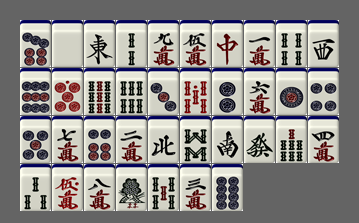0m: (52, 164, 83, 211)
0p: (52, 68, 83, 115)
0s: (180, 68, 211, 115)
1m: (244, 20, 275, 67)
1p: (276, 68, 307, 115)
1s: (116, 164, 147, 211)
1z: (84, 20, 115, 67)
2m: (116, 116, 147, 163)
2p: (212, 68, 243, 115)
2s: (116, 20, 147, 67)
2z: (212, 116, 243, 163)
3m: (180, 164, 211, 211)
3p: (148, 68, 179, 115)
3s: (20, 164, 51, 211)
3z: (308, 20, 339, 67)
4m: (308, 116, 339, 163)
4p: (308, 68, 339, 115)
4s: (276, 20, 307, 67)
4z: (148, 116, 179, 163)
5m: (180, 20, 211, 67)
5p: (20, 116, 51, 163)
5s: (148, 164, 179, 211)
5z: (52, 20, 83, 67)
6m: (244, 68, 275, 115)
6p: (84, 116, 115, 163)
6s: (116, 68, 147, 115)
6z: (244, 116, 275, 163)
7m: (52, 116, 83, 163)
7p: (20, 20, 51, 67)
7s: (276, 116, 307, 163)
7z: (212, 20, 243, 67)
8m: (84, 164, 115, 211)
8p: (212, 164, 243, 211)
8s: (180, 116, 211, 163)
9m: (148, 20, 179, 67)
9p: (20, 68, 51, 115)
9s: (84, 68, 115, 115)
